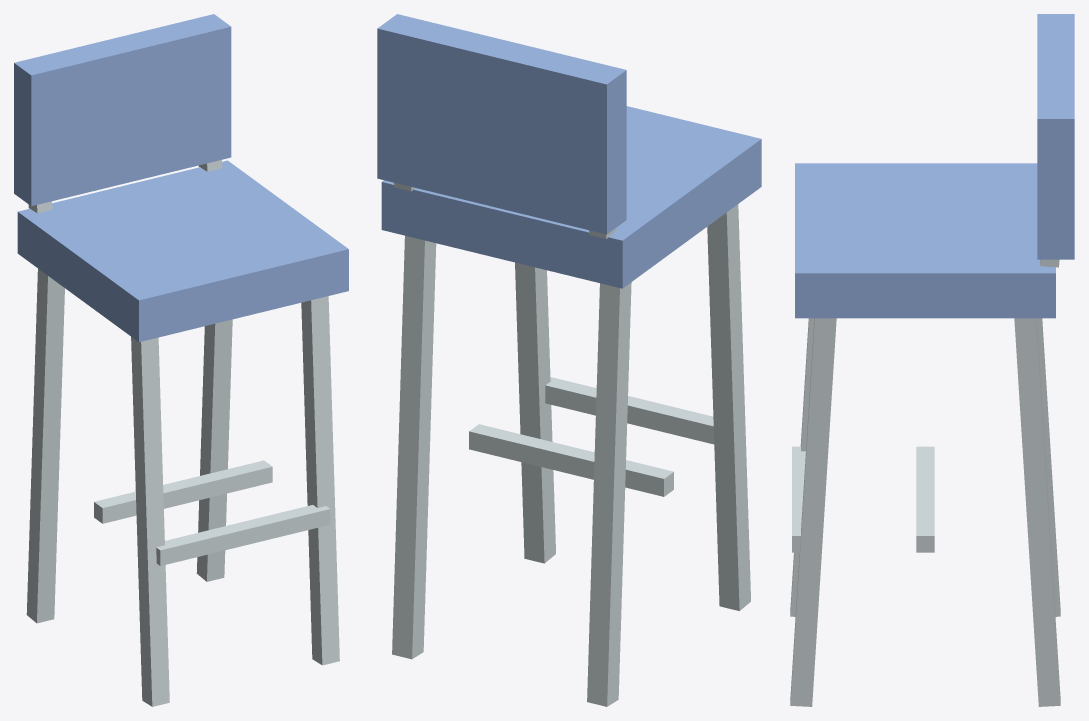
File: stoolBackrest.glb
The picture shows the model from 3 angles, left to right: view 1: azimuth 30°, elevation 25°; view 2: azimuth 150°, elevation 25°; view 3: azimuth 270°, elevation 25°; orthographic projection. The views are drawn at different scales.
Parts seen in each view (by area): view 1: stoolBackrest; view 2: stoolBackrest; view 3: stoolBackrest.
Part boxes in pixels (x1=…): stoolBackrest: x1=14, y1=14, x2=348, y2=706; stoolBackrest: x1=377, y1=14, x2=761, y2=706; stoolBackrest: x1=790, y1=14, x2=1074, y2=706.
Size of the model in its own units: 0.21 by 0.5255 by 0.2287.
